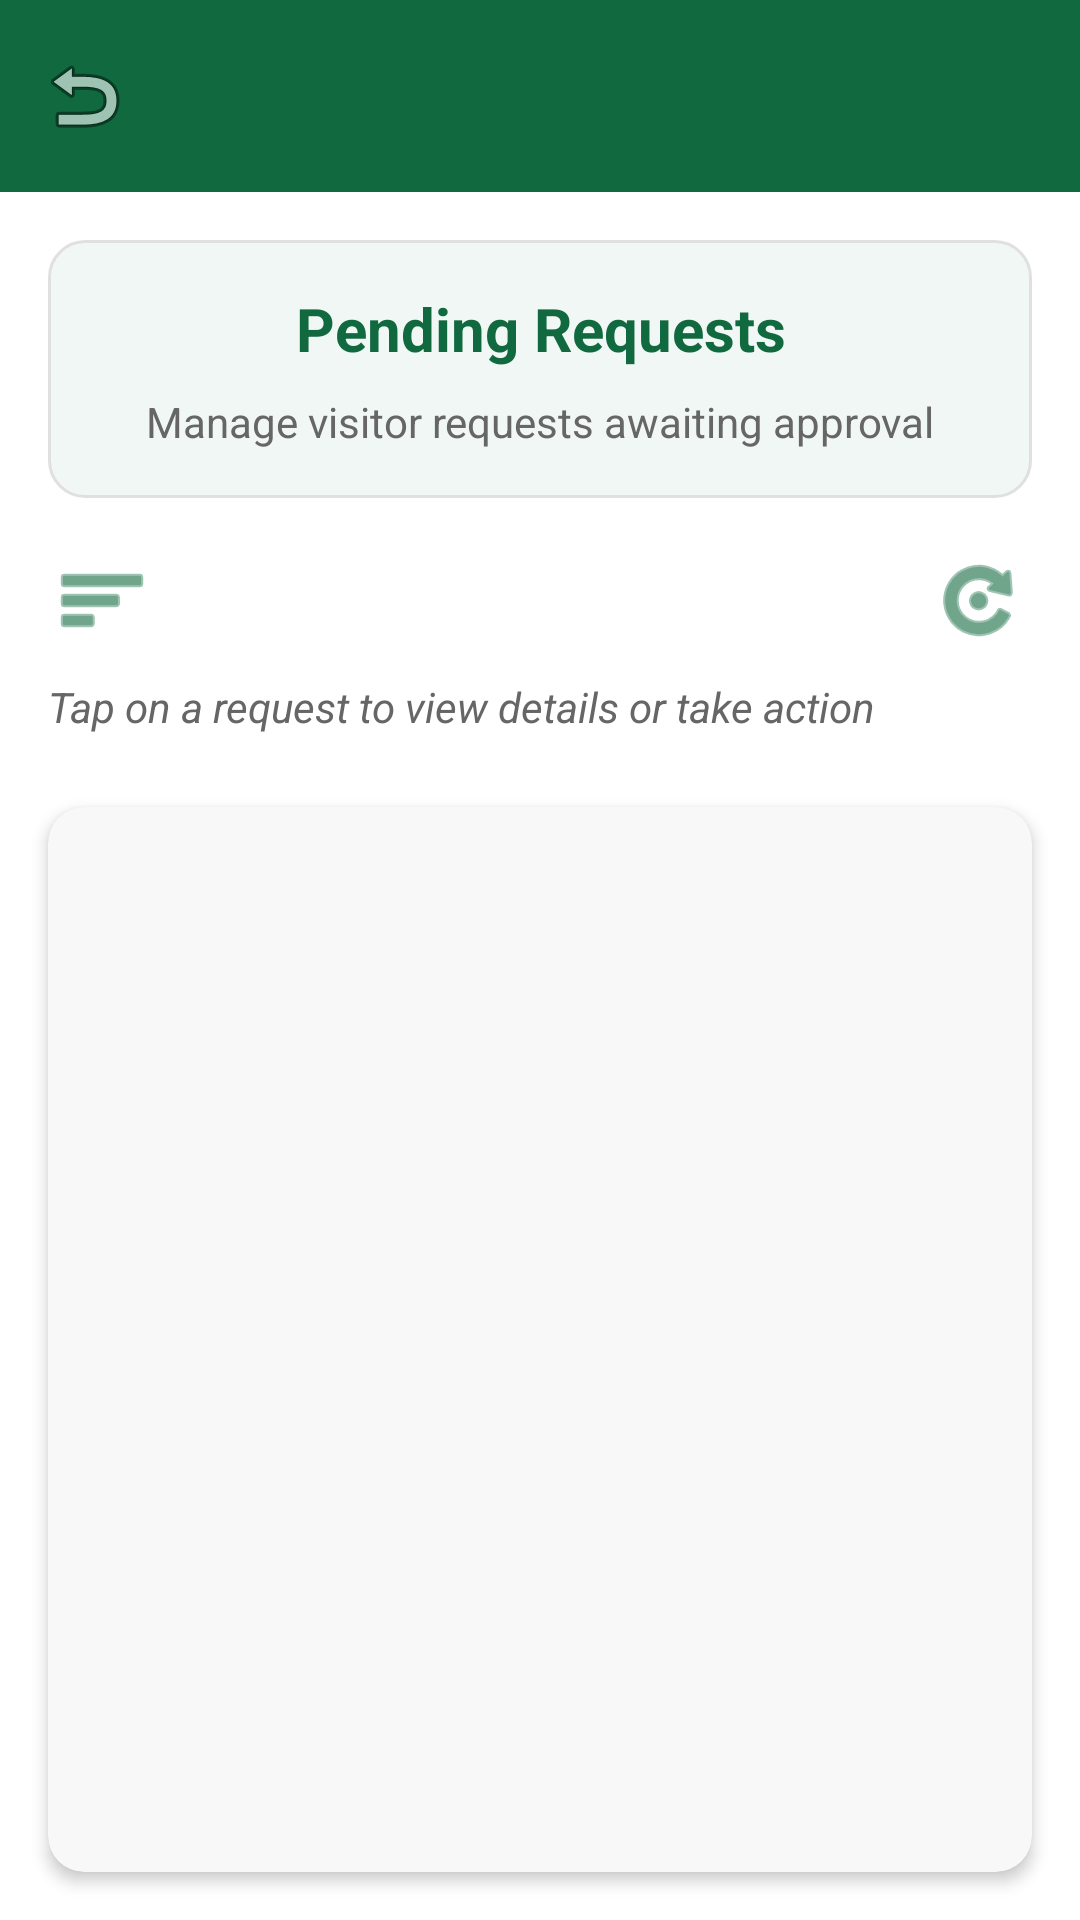

Named icons in this screenshot (1080×1920) and their centers, point (x, y):
Filter requests: point (102, 600)
Refresh the list: point (978, 600)
